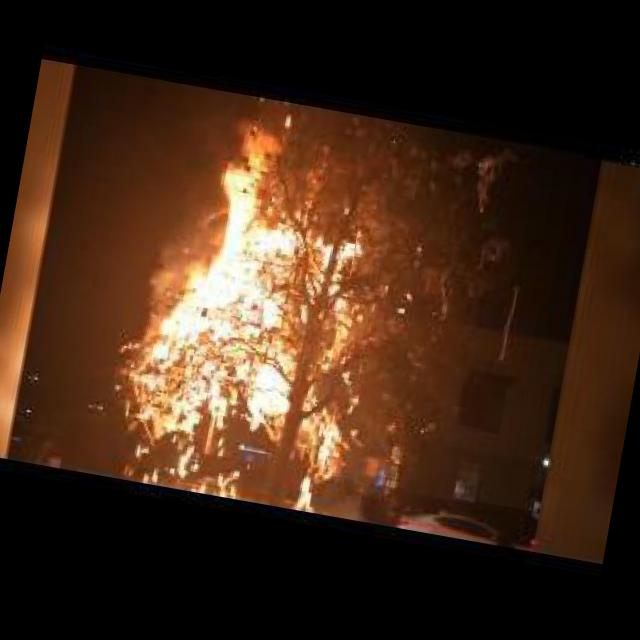fire: (107, 117, 430, 514)
